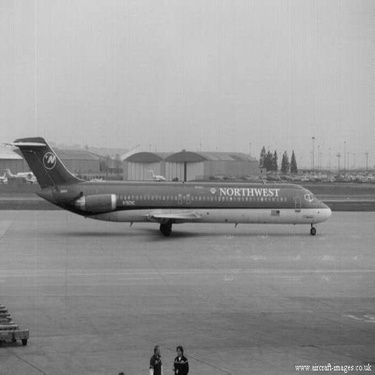airplane: (3, 115, 344, 254)
